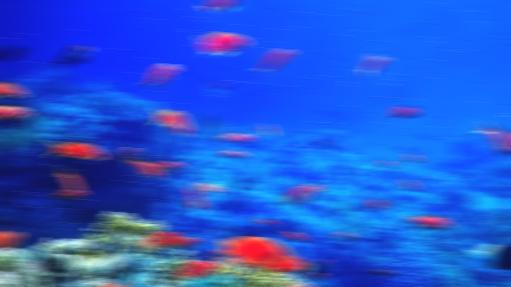Fish: (218, 236, 289, 262), (137, 64, 178, 98), (477, 119, 510, 156), (197, 32, 248, 55), (52, 45, 91, 75), (250, 49, 293, 76), (153, 105, 188, 136), (45, 141, 102, 160), (250, 254, 307, 272), (176, 260, 217, 281), (141, 231, 178, 252), (359, 54, 388, 79), (130, 155, 161, 178), (281, 186, 314, 206), (406, 214, 451, 228), (199, 0, 236, 14), (59, 165, 80, 188), (0, 105, 30, 120), (391, 105, 418, 121), (186, 186, 203, 210), (0, 45, 25, 61), (0, 81, 25, 97), (0, 231, 21, 249), (111, 147, 138, 161), (165, 236, 198, 247), (208, 76, 229, 93), (218, 132, 251, 142), (151, 160, 182, 170), (55, 189, 84, 199), (284, 231, 307, 241), (197, 183, 222, 192), (220, 150, 248, 158), (368, 198, 385, 209), (402, 178, 417, 190), (261, 123, 274, 136), (209, 249, 224, 260), (406, 153, 421, 162), (378, 159, 393, 168), (254, 219, 275, 225), (0, 230, 7, 243), (117, 283, 122, 286)
